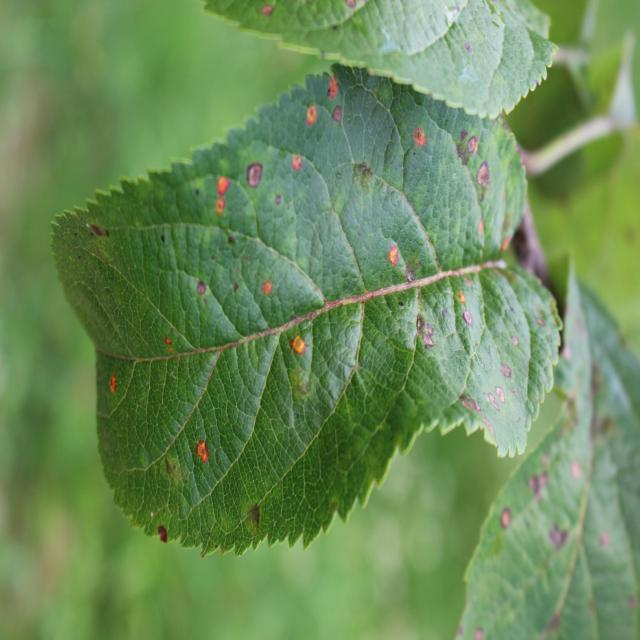Black Rot: (408, 308, 437, 359), (493, 499, 526, 539), (242, 146, 265, 195), (527, 302, 552, 344), (477, 382, 509, 414), (492, 355, 519, 391), (473, 159, 495, 194), (324, 100, 347, 128), (454, 308, 478, 333), (464, 132, 483, 158), (194, 278, 210, 302)
Rust: (274, 146, 314, 184), (295, 94, 323, 134), (282, 327, 310, 364), (185, 437, 218, 466), (384, 234, 404, 278), (106, 367, 130, 399), (156, 323, 177, 358), (409, 125, 430, 158), (258, 270, 277, 305), (324, 66, 342, 100), (212, 169, 233, 196), (212, 194, 233, 220), (449, 288, 468, 306)
